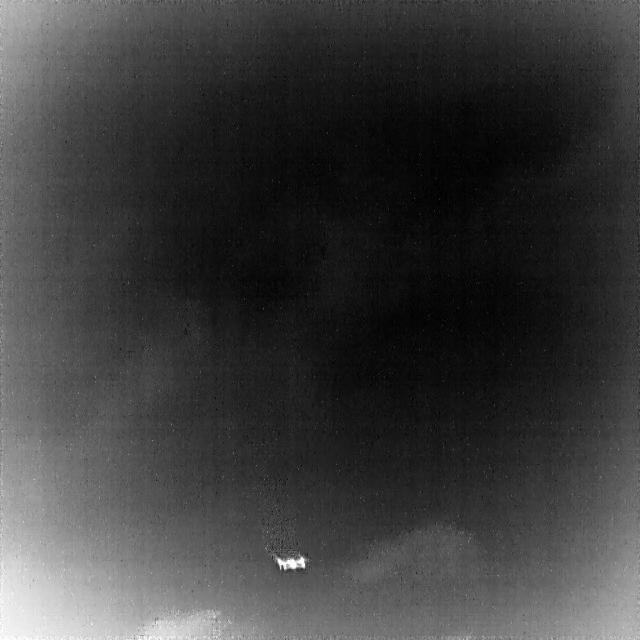drone: (274, 552, 308, 574)
